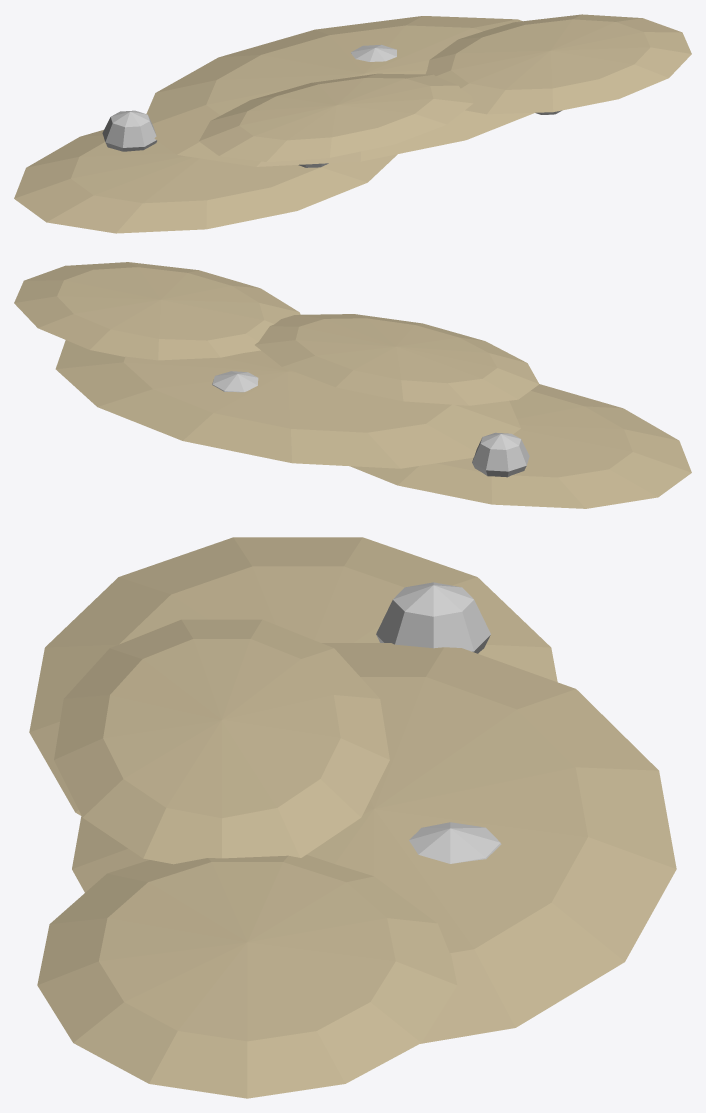
File: carbonate_shelf_a.obj
3 renders of one model, top to bottom at view 1: azimuth 30°, elevation 25°; view 2: azimuth 150°, elevation 25°; view 3: azimuth 270°, elevation 25°, orthographic. The views are drawn at different scales.
Visible parts, largest first — view 1: precipitate_shelf_0, precipitate_shelf_1, precipitate_shelf_2, precipitate_shelf_3, carbon_inclusion_0, carbon_inclusion_2; view 2: precipitate_shelf_1, precipitate_shelf_2, precipitate_shelf_0, precipitate_shelf_3, carbon_inclusion_0, carbon_inclusion_2; view 3: precipitate_shelf_1, precipitate_shelf_2, precipitate_shelf_3, precipitate_shelf_0, carbon_inclusion_0, carbon_inclusion_2.
Part boxes in pixels (x1=…): precipitate_shelf_0: x1=14, y1=130, x2=397, y2=233; precipitate_shelf_1: x1=146, y1=16, x2=534, y2=166; precipitate_shelf_2: x1=426, y1=14, x2=691, y2=114; precipitate_shelf_3: x1=199, y1=73, x2=473, y2=161; carbon_inclusion_0: x1=102, y1=110, x2=156, y2=151; carbon_inclusion_2: x1=351, y1=44, x2=396, y2=61; precipitate_shelf_1: x1=55, y1=340, x2=520, y2=468; precipitate_shelf_2: x1=14, y1=262, x2=300, y2=360; precipitate_shelf_0: x1=350, y1=384, x2=691, y2=508; precipitate_shelf_3: x1=255, y1=314, x2=538, y2=405; carbon_inclusion_0: x1=472, y1=432, x2=529, y2=477; carbon_inclusion_2: x1=212, y1=371, x2=258, y2=392; precipitate_shelf_1: x1=72, y1=643, x2=676, y2=1043; precipitate_shelf_2: x1=37, y1=854, x2=457, y2=1098; precipitate_shelf_3: x1=54, y1=619, x2=389, y2=864; precipitate_shelf_0: x1=29, y1=537, x2=557, y2=815; carbon_inclusion_0: x1=376, y1=582, x2=490, y2=653; carbon_inclusion_2: x1=409, y1=822, x2=501, y2=863.
Size of the model in its own units: 8.73 by 0.84 by 3.83.
